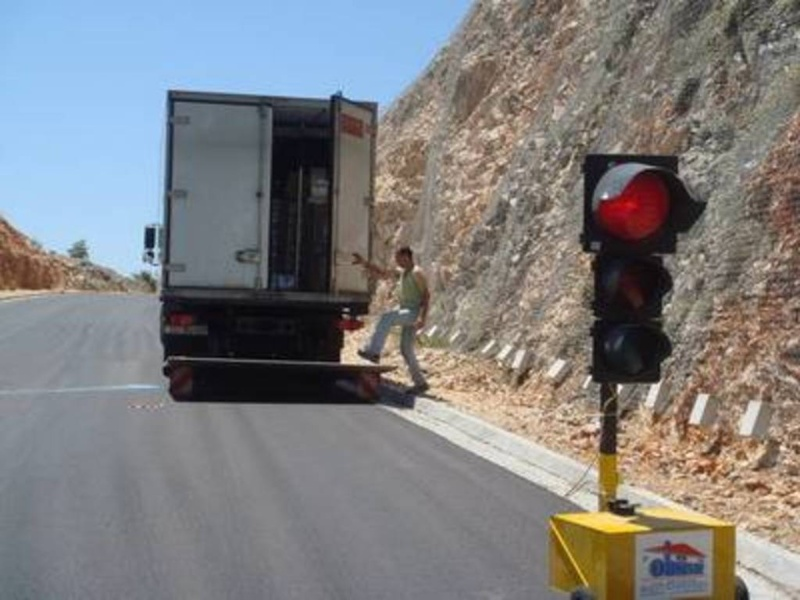red_light: (582, 147, 713, 259)
